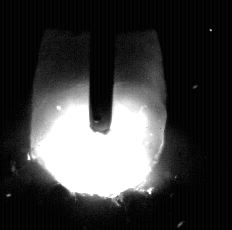arame: (90, 0, 114, 135)
poca: (29, 0, 165, 230)
